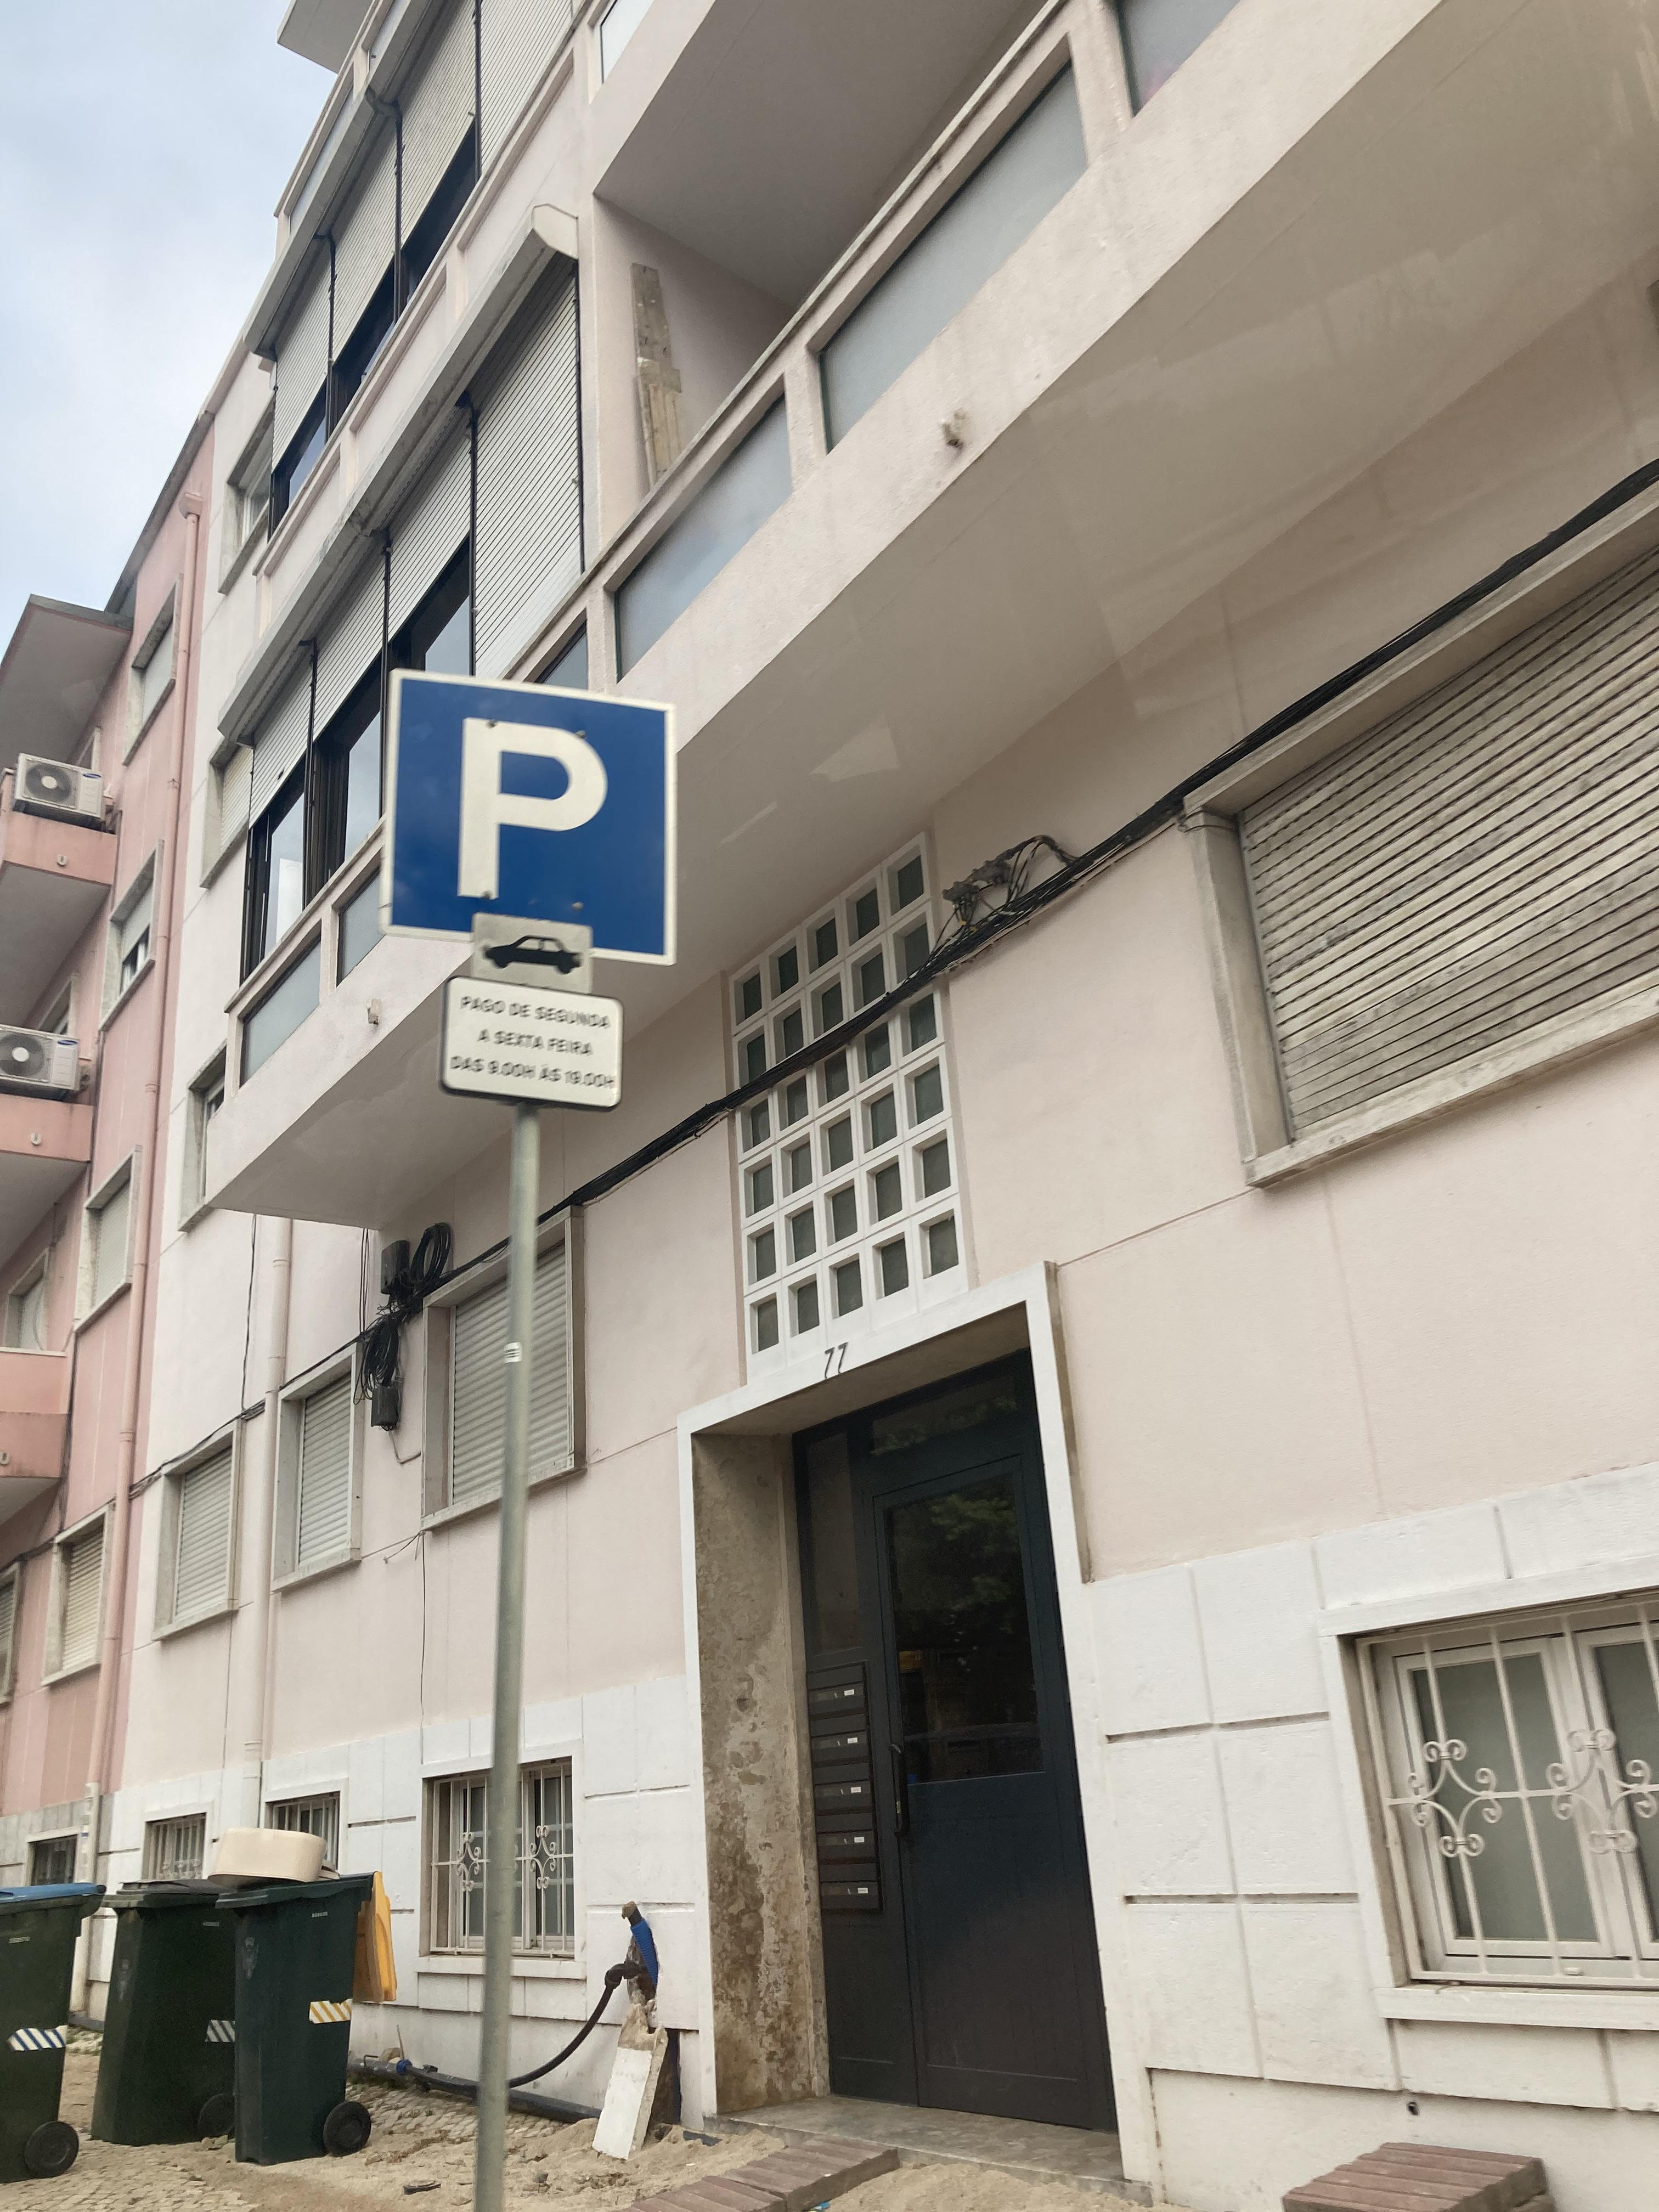Estacionamento autorizado: (380, 653, 699, 984)
